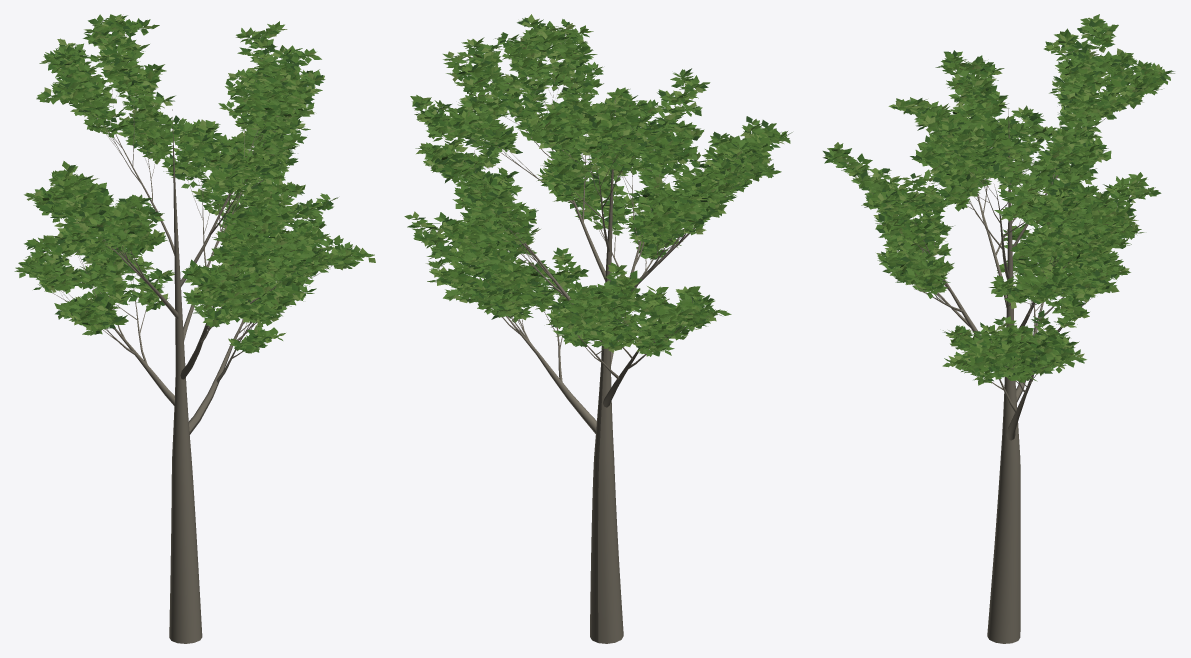
File: tree_09.glb
The picture shows the model from 3 angles, left to right: view 1: azimuth 30°, elevation 25°; view 2: azimuth 150°, elevation 25°; view 3: azimuth 270°, elevation 25°; orthographic projection. The views are drawn at different scales.
Parts seen in each view (by area): view 1: Tree_09_leaf_clusters, Tree_09_trunk_branches; view 2: Tree_09_leaf_clusters, Tree_09_trunk_branches; view 3: Tree_09_leaf_clusters, Tree_09_trunk_branches.
Boxes of the visible parts, x1,y1,x2,y2 form: Tree_09_leaf_clusters: (14,14,375,353); Tree_09_trunk_branches: (34,28,332,643); Tree_09_leaf_clusters: (404,14,792,356); Tree_09_trunk_branches: (417,30,772,643); Tree_09_leaf_clusters: (823,14,1174,385); Tree_09_trunk_branches: (844,44,1162,643).
Bounding box in the file's own units: 5.46 × 9.01 × 5.
